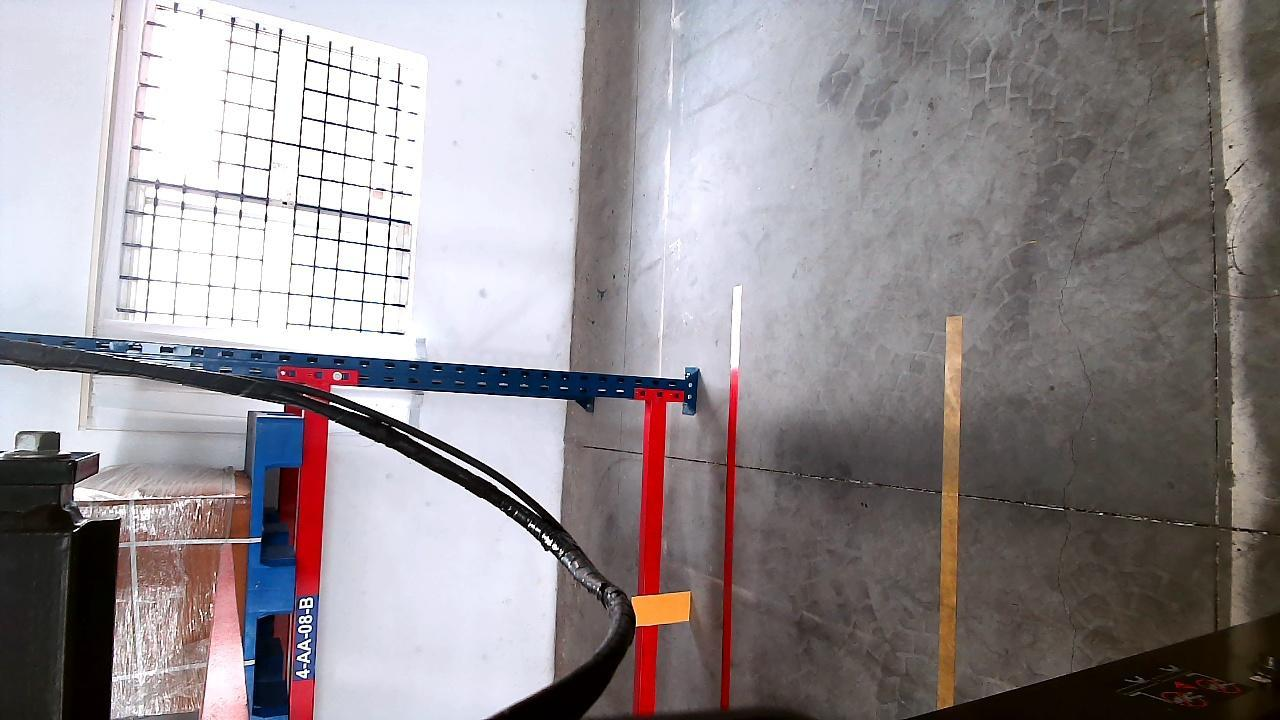red_line: (717, 286, 743, 708)
yellow_line: (937, 321, 962, 712)
